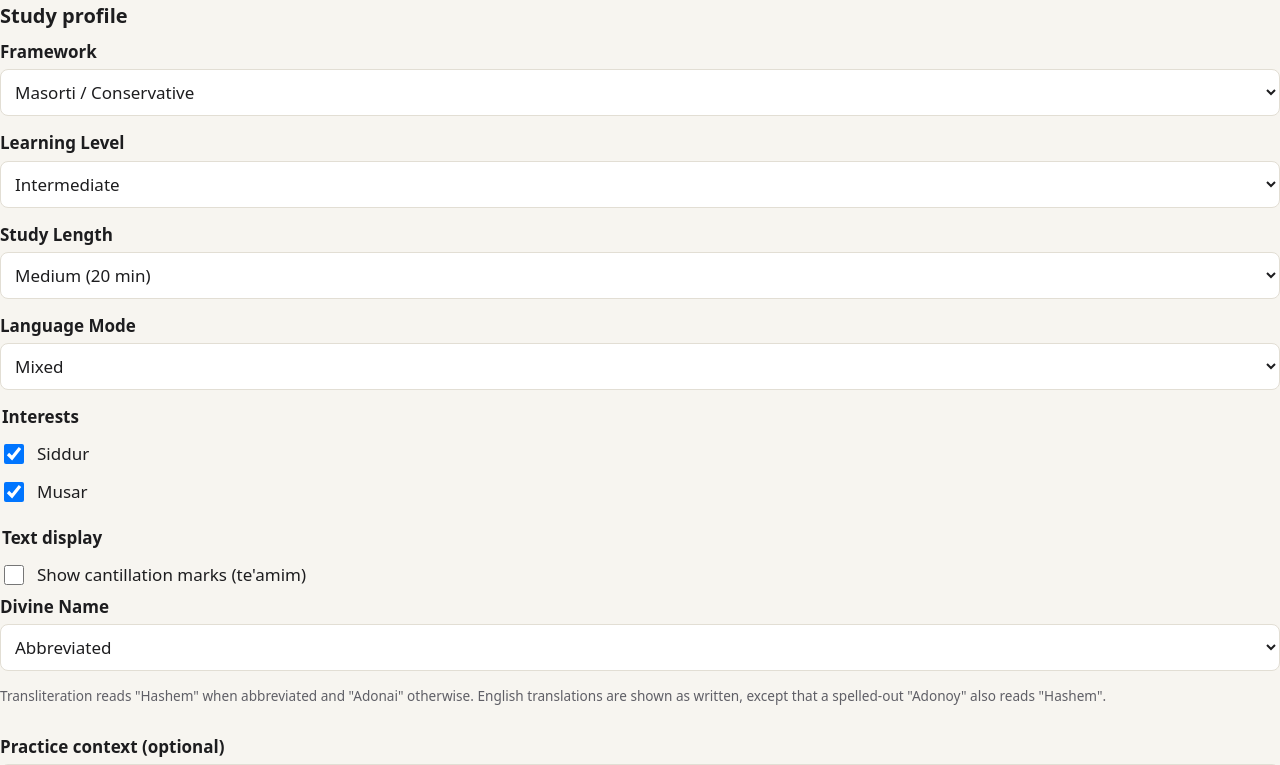
Scenario: SettingsScreen › saves the cantillation toggle and Divine Name setting
Expected: the dropdown labelled "Divine Name" shows "Abbreviated", [0,624,1279,671]
Click the checkbox labelled "Show cantillation marks (te'amim)" at (14, 575), box [4,565,24,585]
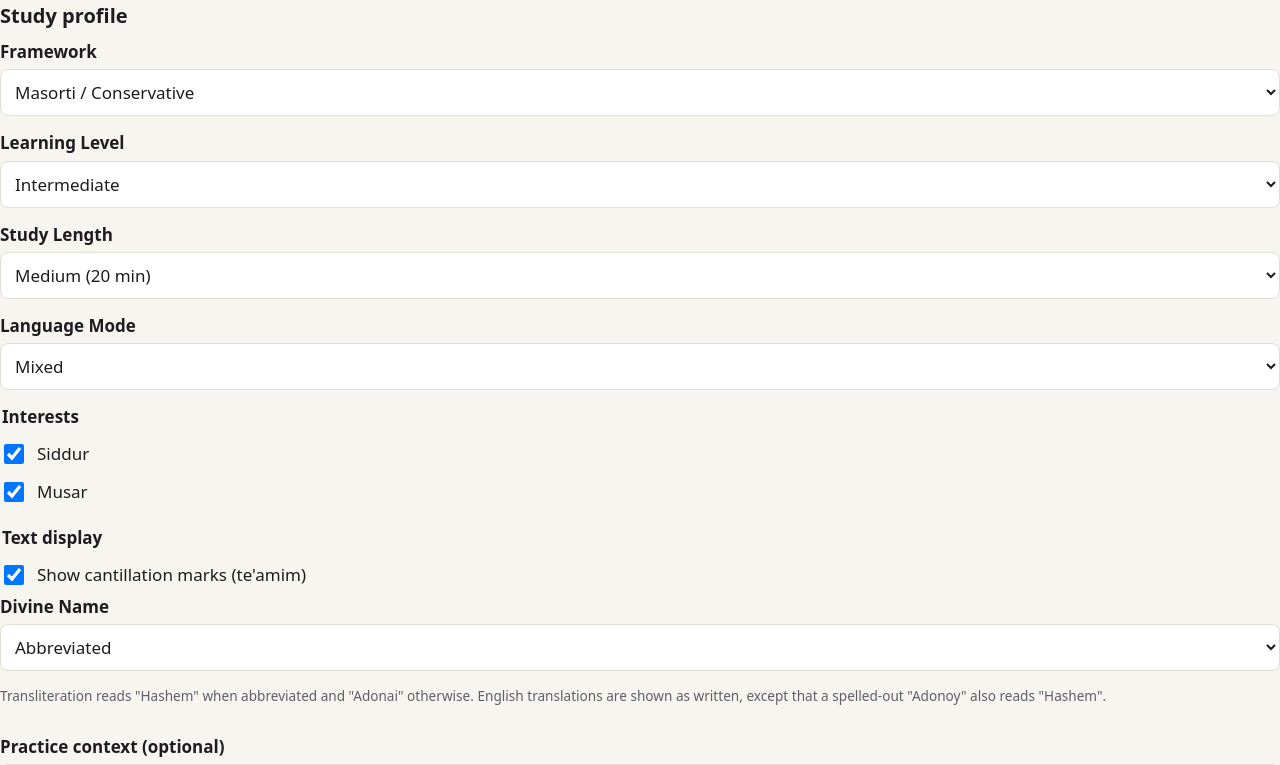
Select "Yud-yud" in the dropdown labelled "Divine Name" at (640, 648), box [0,624,1279,671]
(page scrolled)
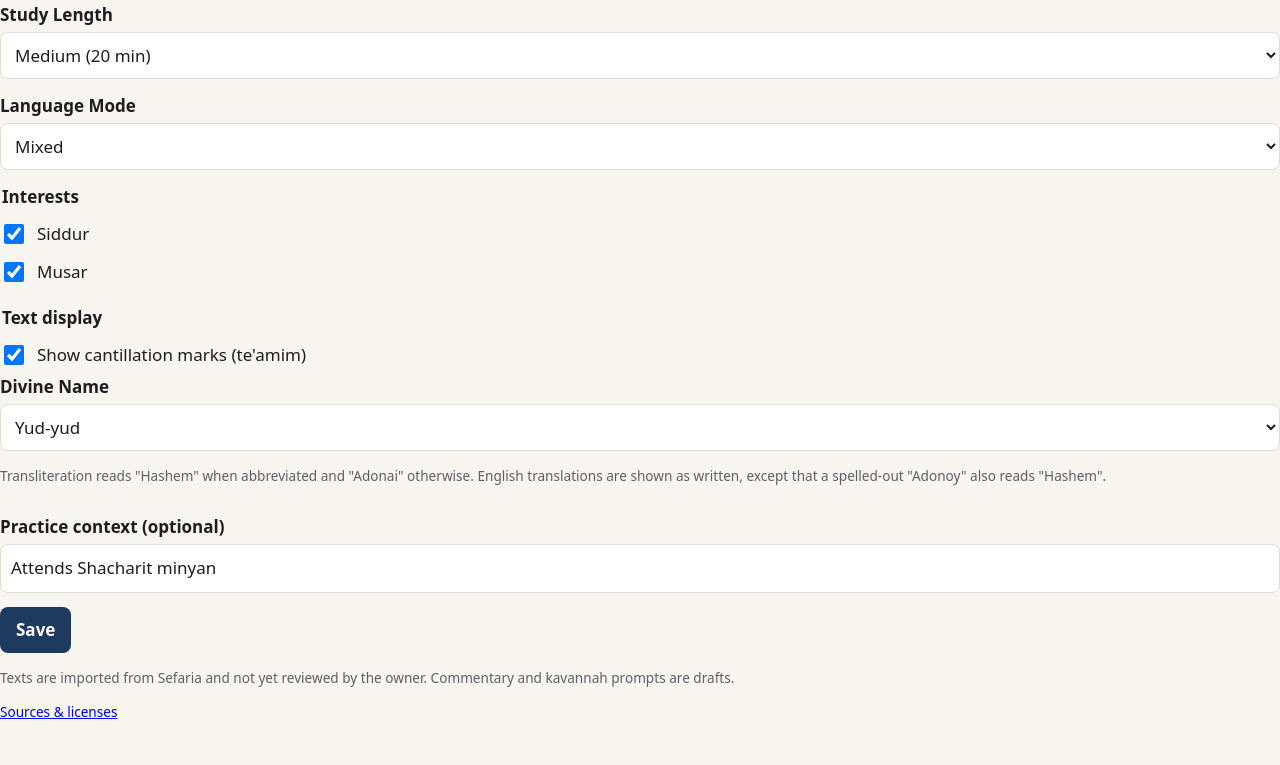
Click the button "Save" at (36, 630), box [0,607,71,653]
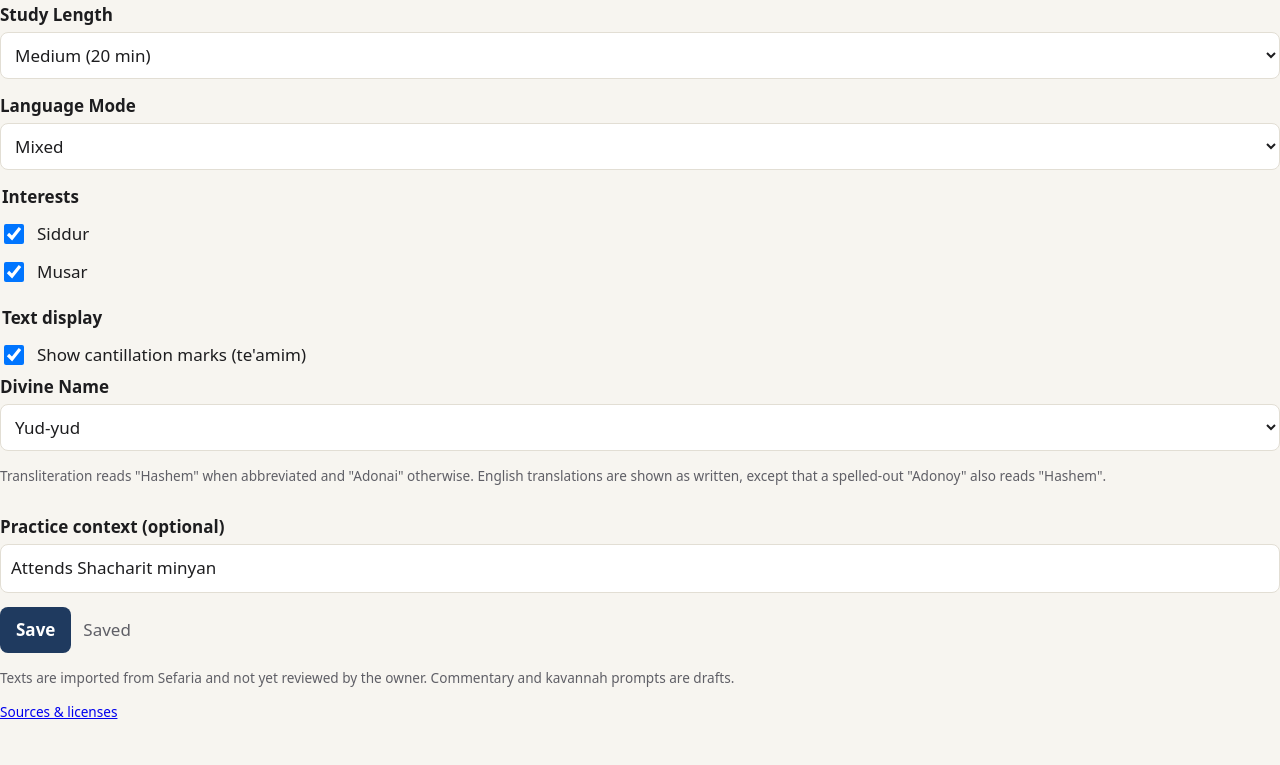
Now the message "Saved" is shown, box [83,617,131,643]
